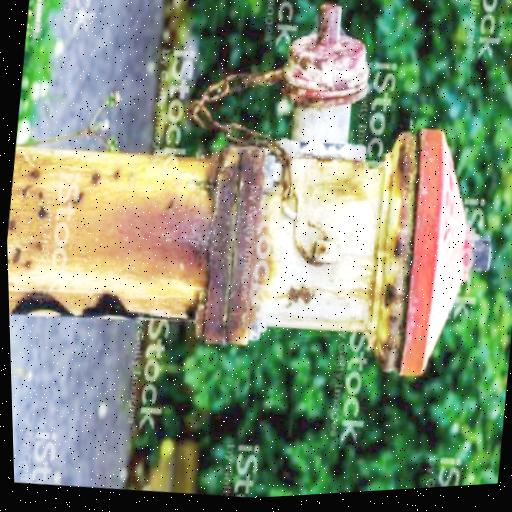corrosion: (4, 135, 212, 335), (358, 126, 429, 378), (187, 142, 269, 350)
